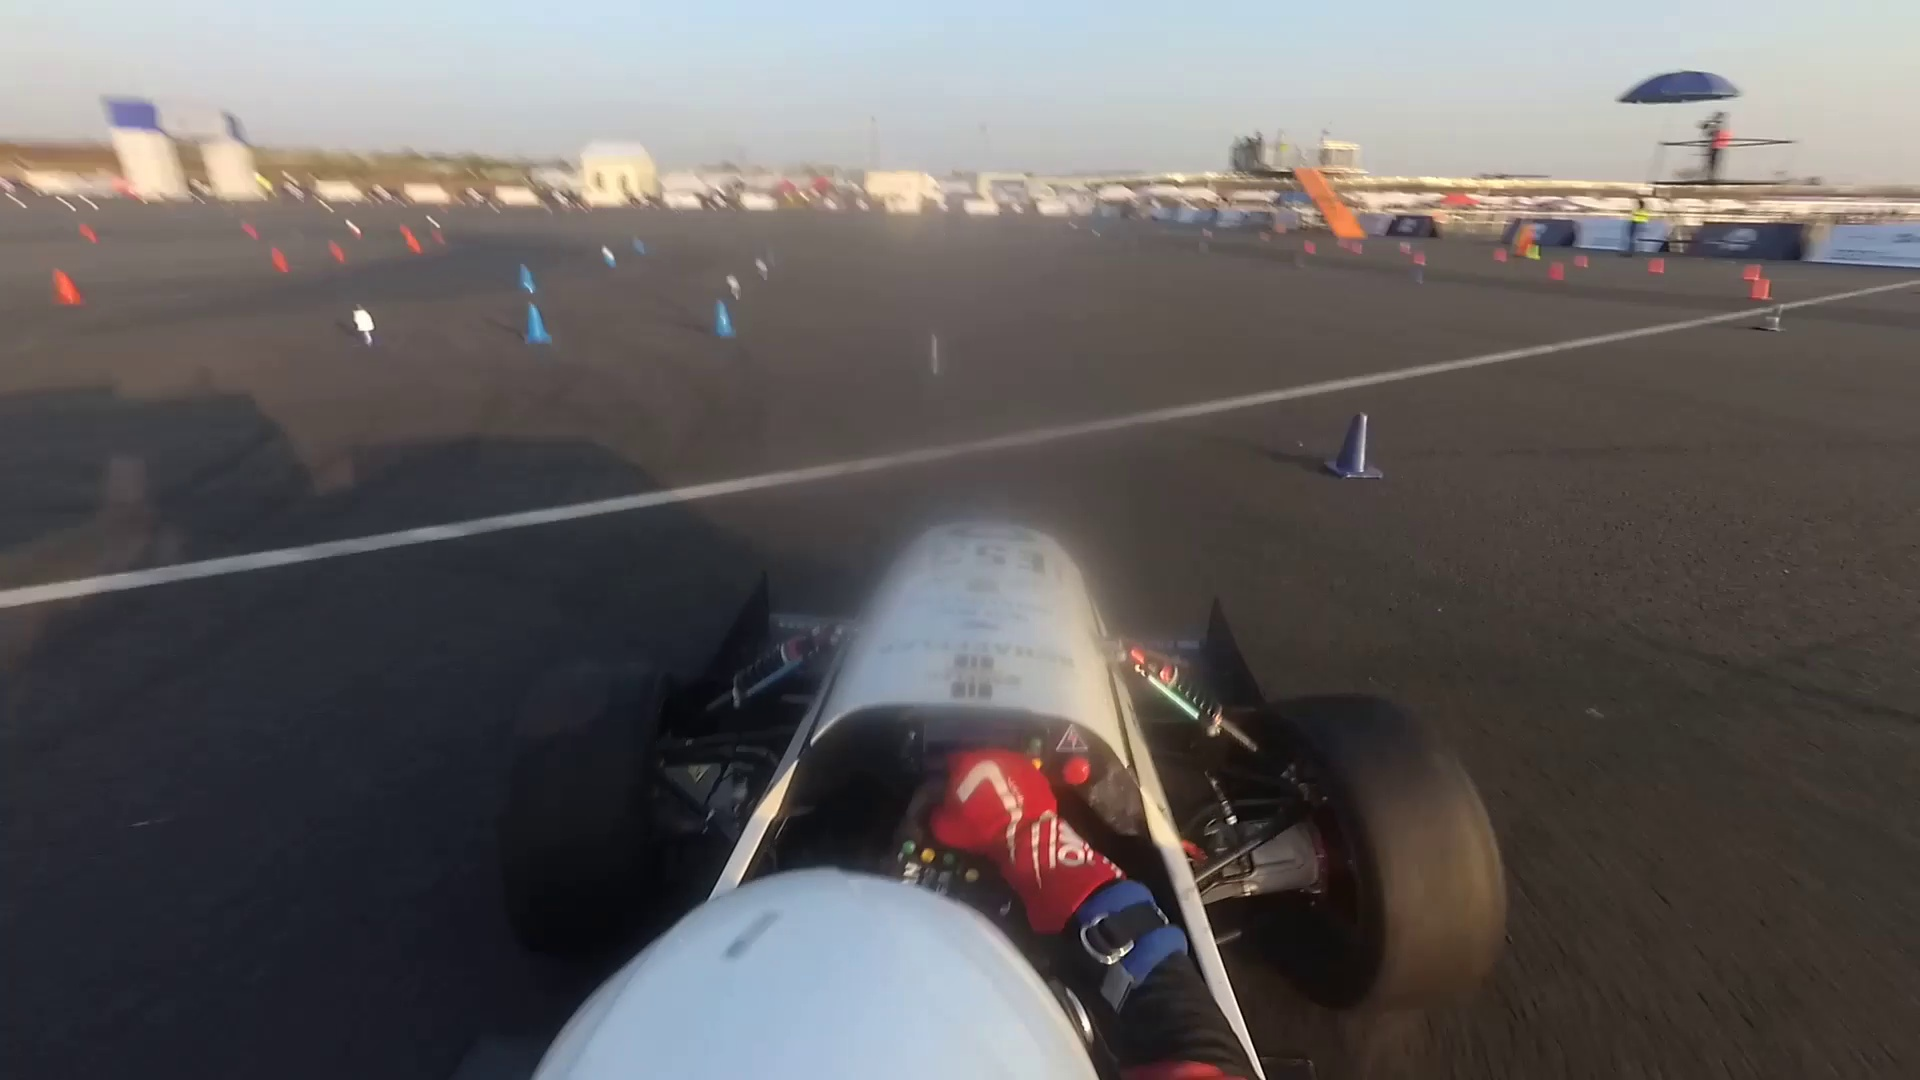blue_cone: (1327, 410, 1378, 480), (347, 305, 380, 345), (916, 334, 943, 378), (524, 309, 553, 342), (713, 303, 736, 338), (1760, 305, 1783, 334), (725, 270, 742, 303), (517, 262, 535, 291), (600, 245, 615, 270), (633, 237, 647, 256)
red_cone: (51, 270, 80, 306), (266, 249, 290, 272), (406, 233, 423, 253), (1549, 264, 1565, 281), (1754, 281, 1768, 298), (1745, 265, 1762, 280), (1647, 258, 1664, 273), (331, 244, 344, 262), (1493, 248, 1509, 261), (1578, 255, 1589, 266)
